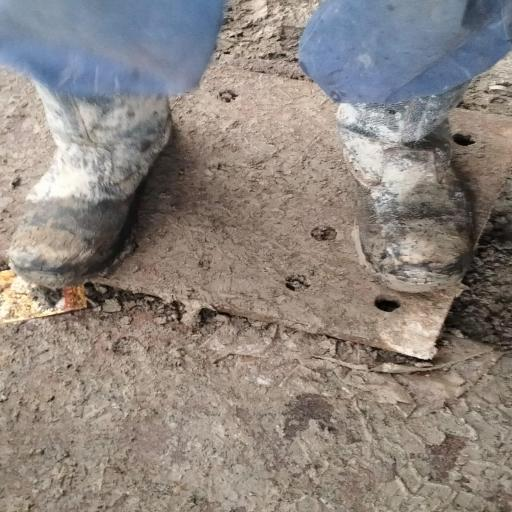safety_shoe: (7, 75, 187, 285), (323, 88, 486, 292)
